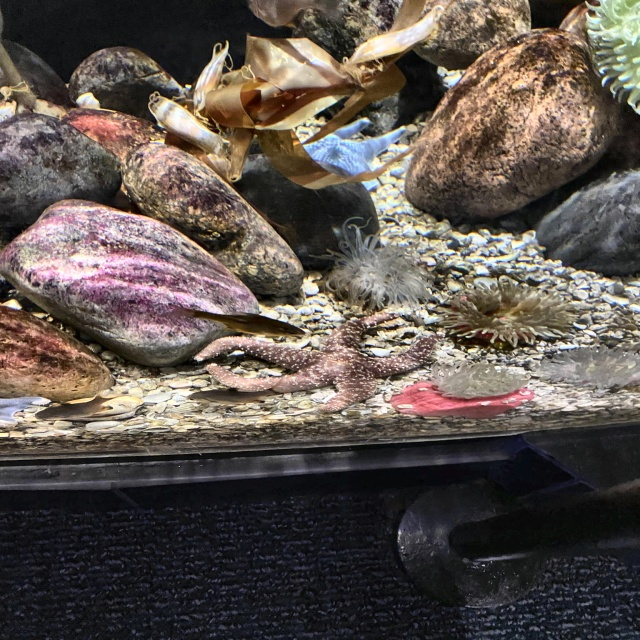fish: (165, 302, 306, 342)
starfish: (193, 305, 435, 415), (295, 114, 410, 195), (0, 397, 48, 426)
